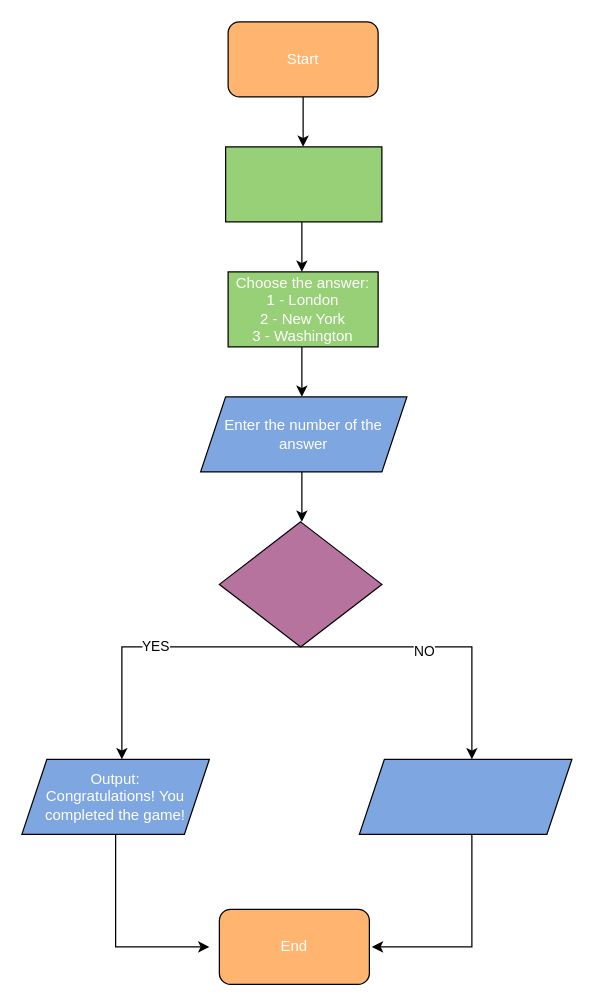
This 594x1006 diagram has some shape labels left out. Here are the shapes that lost their labels. From the top down, the centre of each, then its label:
the point at 303,184: Answer the question: What is the capital of the US?
the point at 300,584: Is the entered number equal to 1
the point at 465,796: Output: Sorry, you lose the game!
